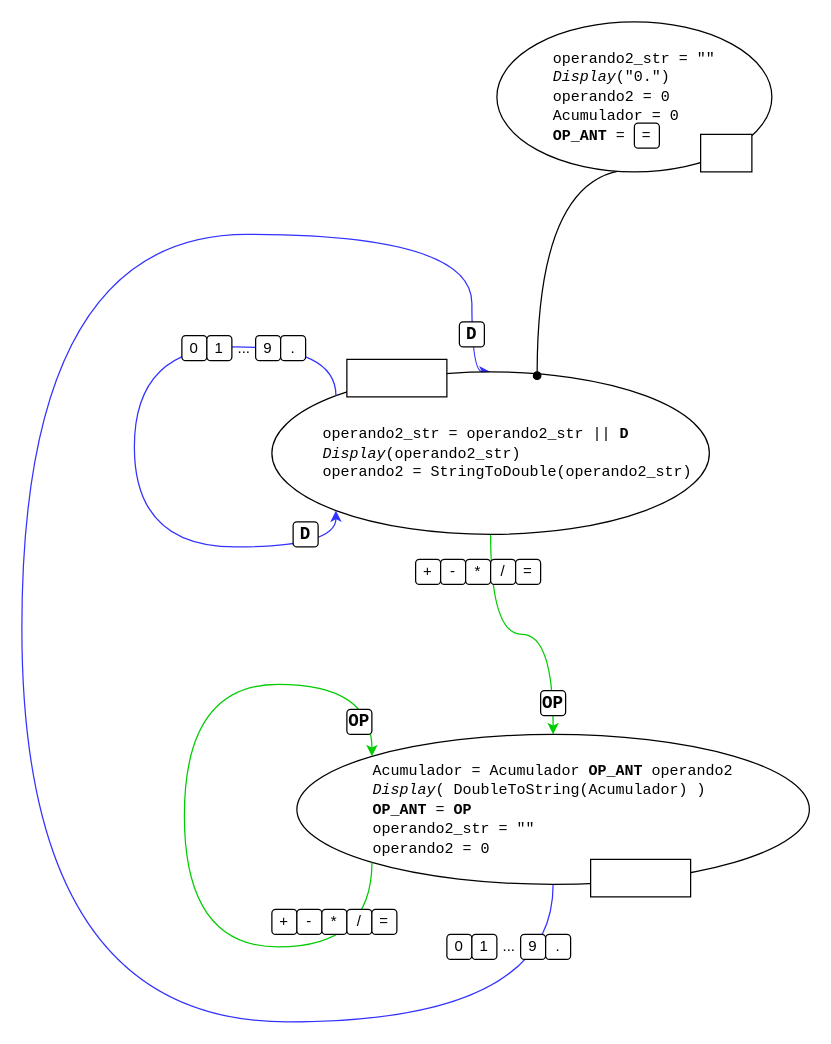
This 831x1044 diagram has some shape labels left out. Each missing label, with the centre of its shape:
INIC.: the point at 725,152
NÚMERO: the point at 396,377
OPERACIÓN: the point at 640,877
